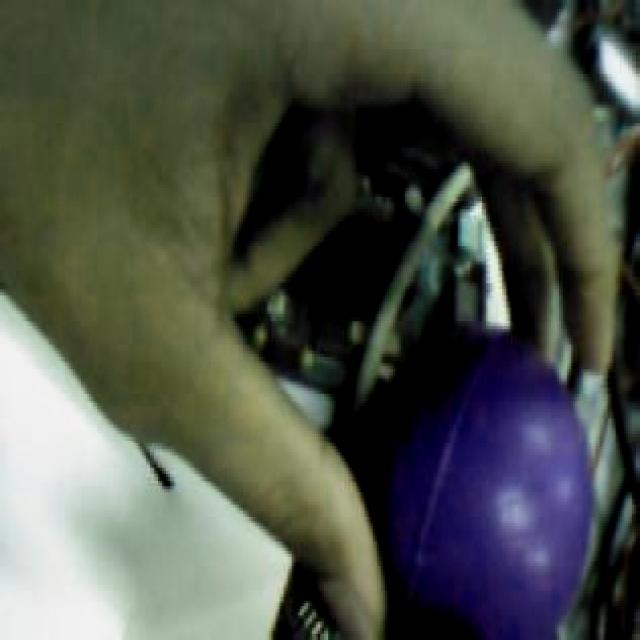BallPurple: (385, 328, 593, 640)
